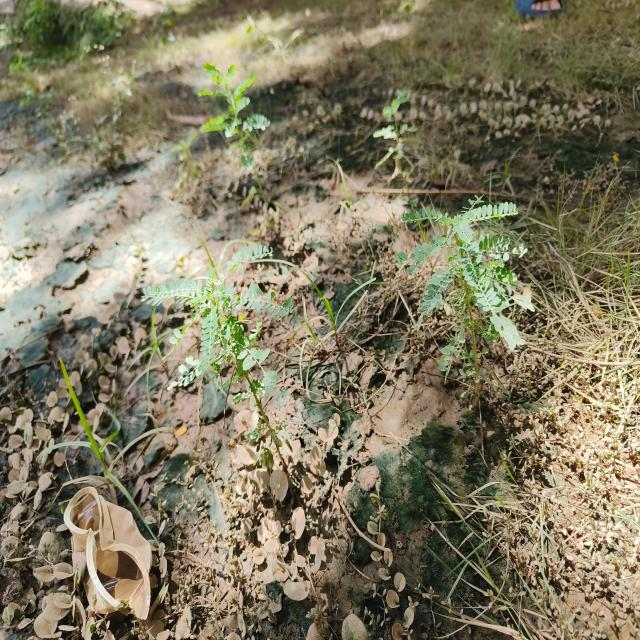weed: (149, 241, 294, 455), (400, 188, 549, 367)
